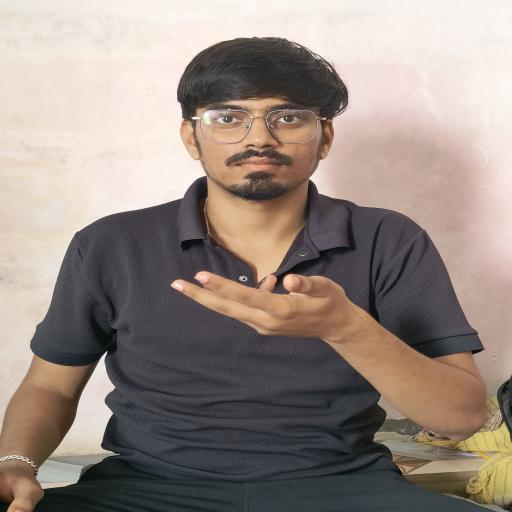Help: (148, 232, 384, 378)
